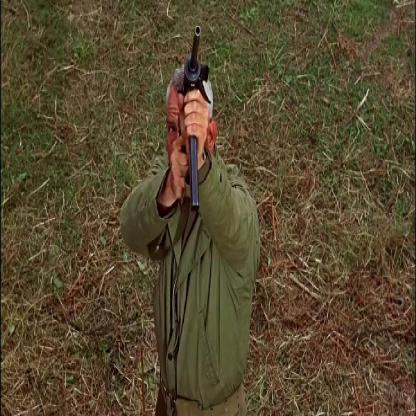Guns: (180, 22, 210, 211)
